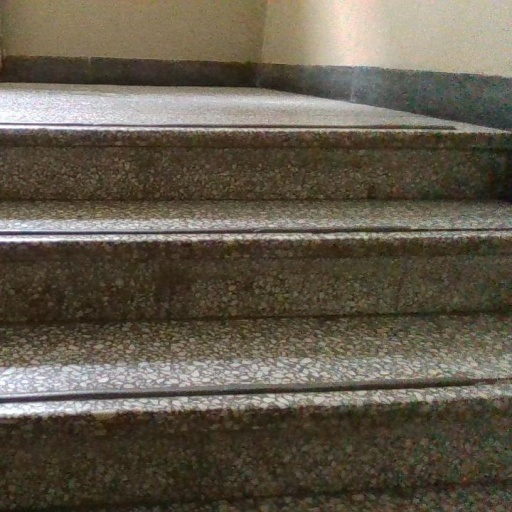Stairs: (0, 84, 512, 512)
